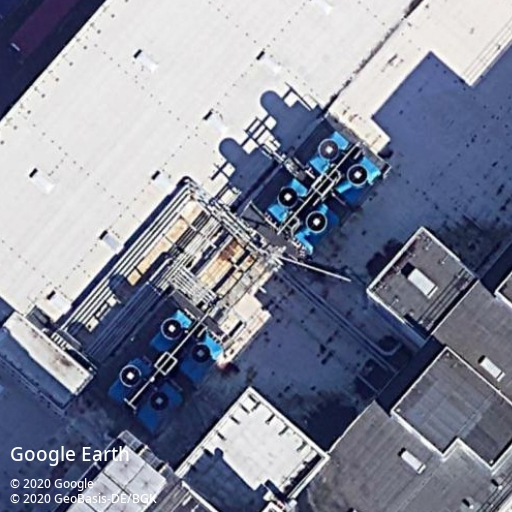Vent: (305, 210, 328, 233), (160, 317, 183, 340), (190, 342, 213, 365), (120, 364, 142, 388), (346, 164, 369, 186), (277, 186, 299, 208), (318, 138, 339, 161), (149, 390, 170, 412)
